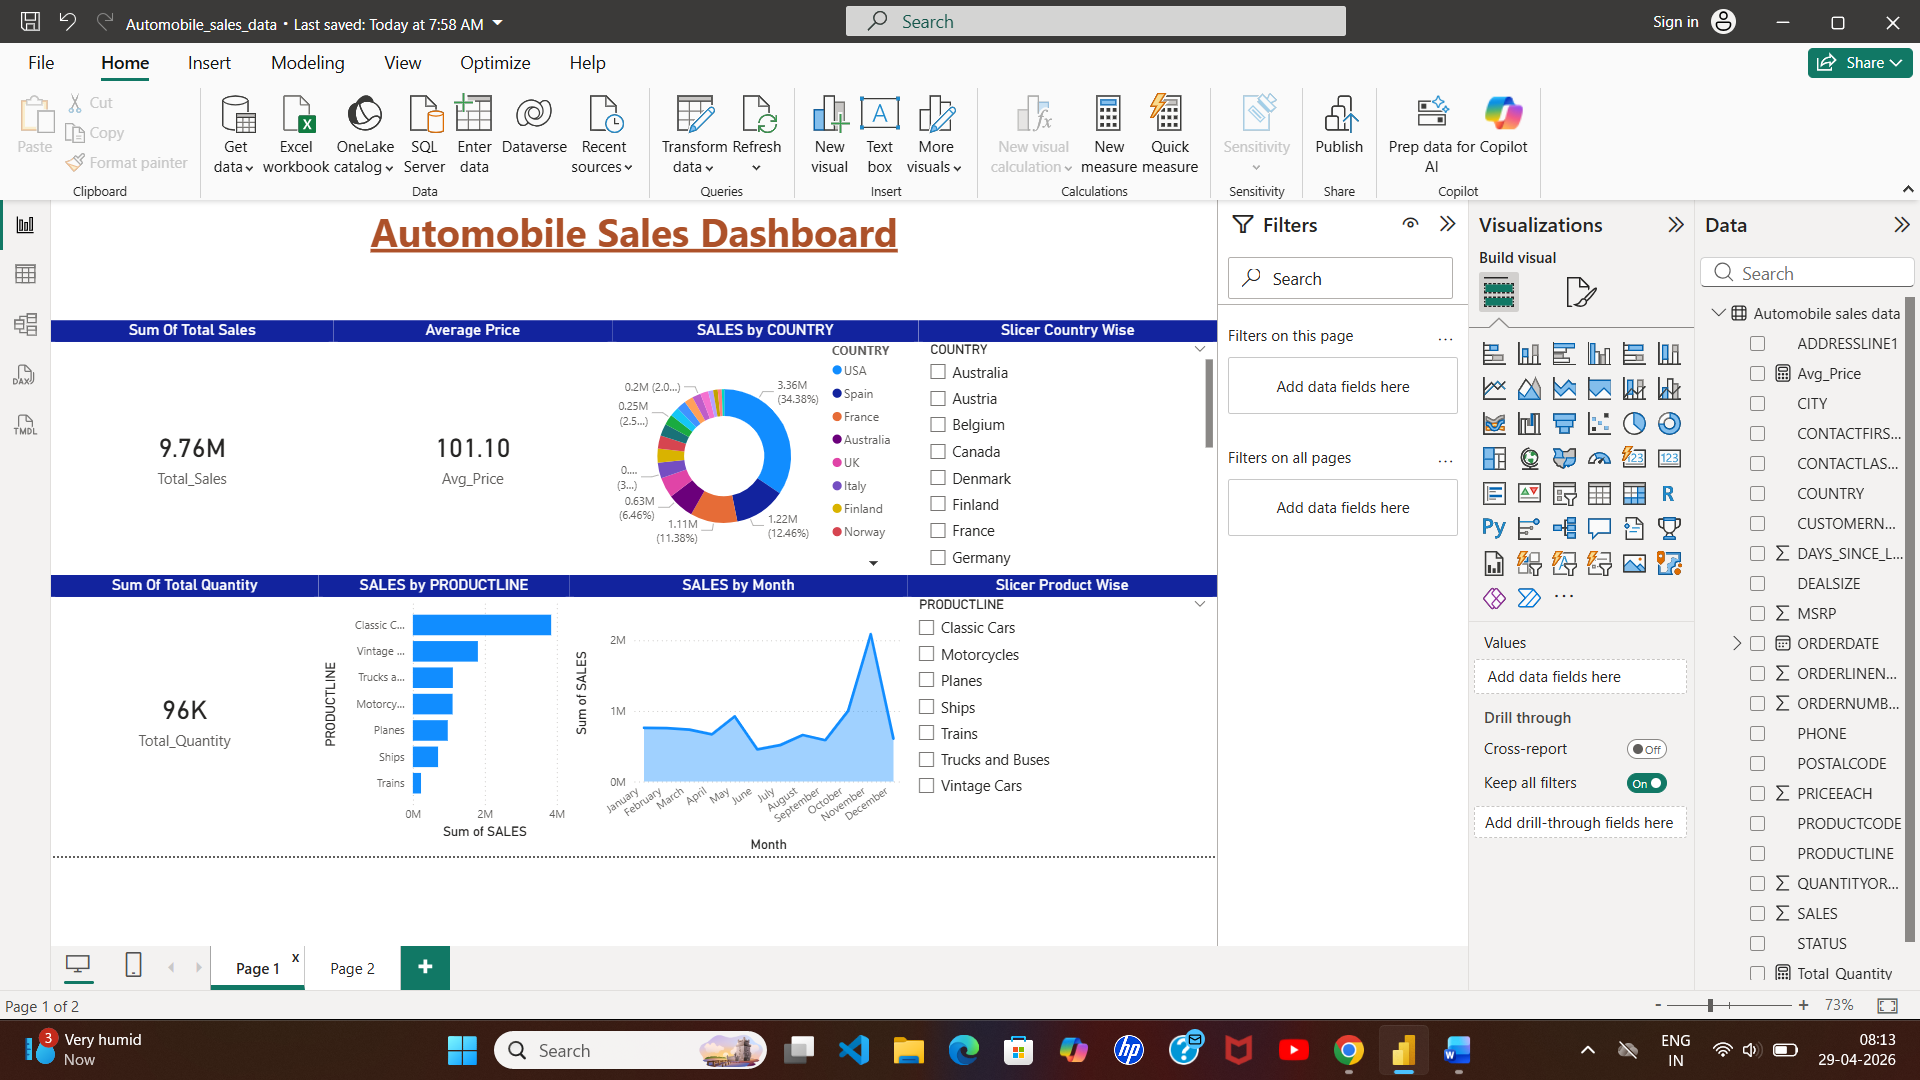

Layout of this report page (visuals, bound fields, positions):
{"tool":"powerbi","page":{"name":"Page 1","canvas":[1280,720],"ordinal":0},"visuals":[{"type":"card","title":"Sum Of Total Sales","fields":{"Values":["Automobile sales data.Total_Sales"]},"box":[0,131.7,310.1,279.9],"z":0},{"type":"card","title":"Sum Of Total Quantity","fields":{"Values":["Automobile sales data.Total_Quantity"]},"box":[0,411.7,293.7,295],"z":1000},{"type":"card","title":"Average Price","fields":{"Values":["Automobile sales data.Avg_Price"]},"box":[310.1,131.7,306,279.9],"z":2000},{"type":"clusteredBarChart","title":" SALES by PRODUCTLINE","fields":{"Category":["Automobile sales data.PRODUCTLINE"],"Y":["Sum(Automobile sales data.SALES)"]},"box":[293.7,411.7,275.8,295],"z":3000},{"type":"donutChart","title":" SALES by COUNTRY","fields":{"Category":["Automobile sales data.COUNTRY"],"Y":["Sum(Automobile sales data.SALES)"]},"box":[616.1,131.7,336.2,279.9],"z":4000},{"type":"areaChart","title":" SALES by Month","fields":{"Category":["Automobile sales data.ORDERDATE.Variation.Date Hierarchy.Month"],"Y":["Sum(Automobile sales data.SALES)"]},"box":[569.5,411.7,370.5,308.7],"z":5000},{"type":"slicer","title":"Slicer Country Wise","fields":{"Values":["Automobile sales data.COUNTRY"]},"box":[952.3,131.7,328,279.9],"z":6000},{"type":"slicer","title":"Slicer Product Wise","fields":{"Values":["Automobile sales data.PRODUCTLINE"]},"box":[940,411.7,340.3,308.7],"z":7000},{"type":"textbox","box":[100.2,100.2,1169.1,12.3],"z":8000},{"type":"textbox","box":[0,0,1280.3,131.7],"z":9000}]}

Visuals, with their boxes on the page's 1280x720 design canvas (x1, y1, x2, y2). These are canvas units, not pixel positions in the 1920x1080 screenshot, which may show the page scaled, cropped or inside an application window:
"Sum Of Total Sales" card: BBox(0, 132, 310, 412)
"Sum Of Total Quantity" card: BBox(0, 412, 294, 707)
"Average Price" card: BBox(310, 132, 616, 412)
" SALES by PRODUCTLINE" clusteredBarChart: BBox(294, 412, 570, 707)
" SALES by COUNTRY" donutChart: BBox(616, 132, 952, 412)
" SALES by Month" areaChart: BBox(570, 412, 940, 720)
"Slicer Country Wise" slicer: BBox(952, 132, 1280, 412)
"Slicer Product Wise" slicer: BBox(940, 412, 1280, 720)
textbox: BBox(100, 100, 1269, 112)
textbox: BBox(0, 0, 1280, 132)
